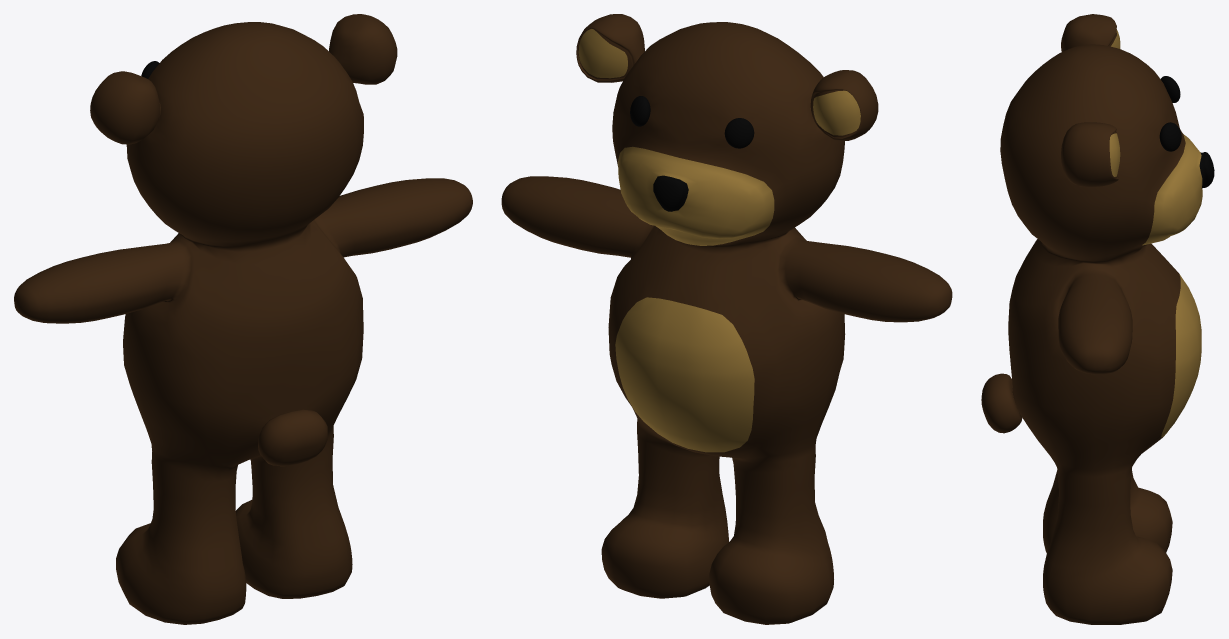
File: bear.fbx
3 renders of one model, left to right at view 1: azimuth 30°, elevation 25°; view 2: azimuth 150°, elevation 25°; view 3: azimuth 270°, elevation 25°, orthographic. The views are drawn at different scales.
Parts seen in each view (by area): view 1: orso_geo; view 2: orso_geo; view 3: orso_geo.
Part boxes in pixels (x1,y1,x2,y2): orso_geo: (14, 14, 472, 624); orso_geo: (501, 14, 952, 624); orso_geo: (981, 14, 1214, 624).
Bounding box in the file's own units: 2.61 × 3.13 × 1.25.
